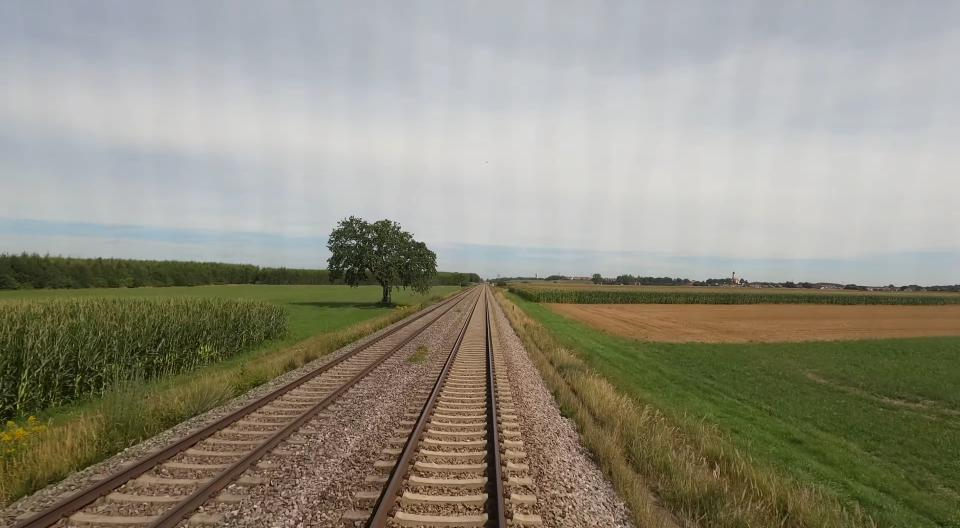Plant: (408, 347, 428, 364)
